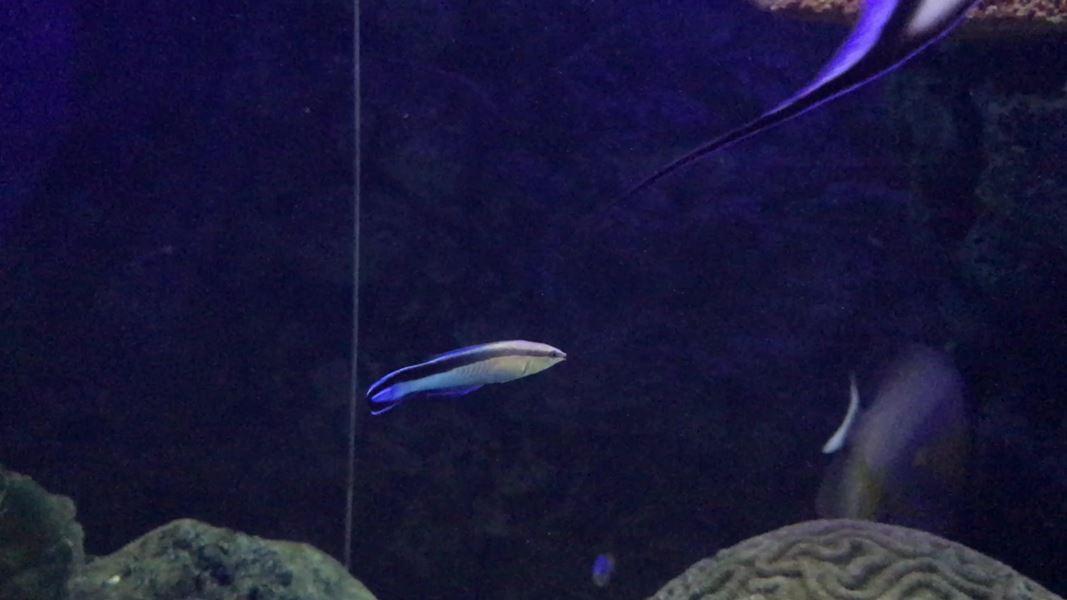Bluesteak cleaner wrasse: (352, 329, 571, 431)
